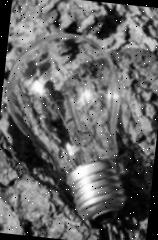lightbulb: (0, 25, 144, 226), (61, 154, 131, 226)
